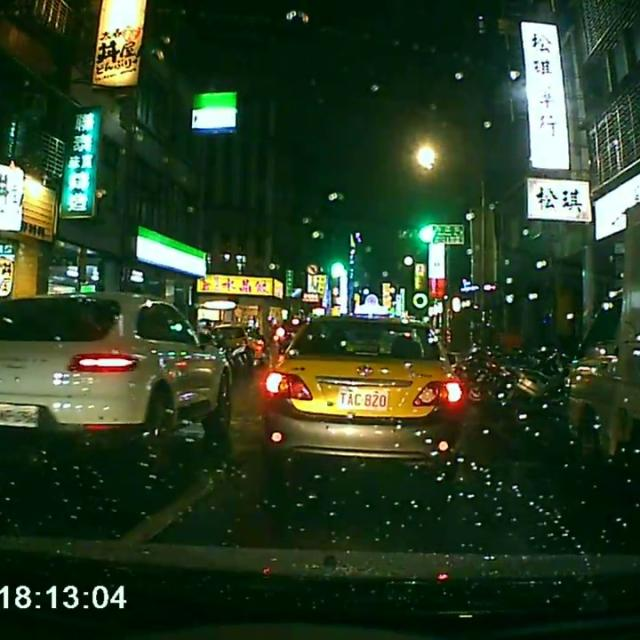Car: (0, 286, 234, 469), (253, 314, 464, 486), (212, 319, 270, 364)
